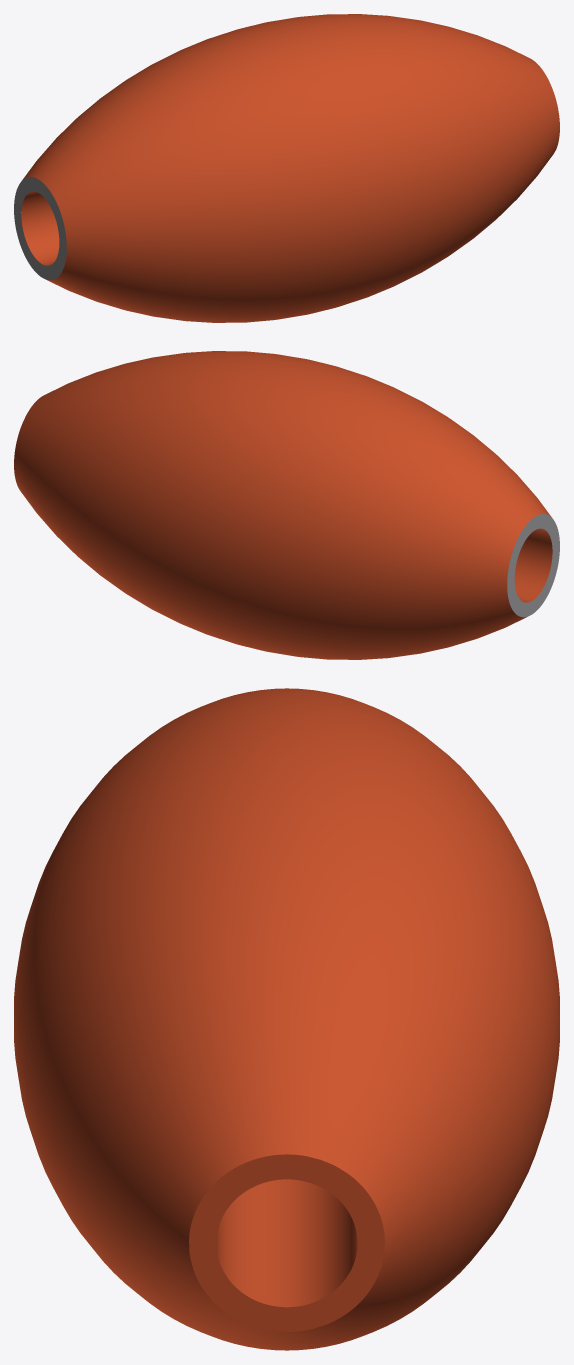
Rendered from Ovaal oranje.glb.
3 renders of one model, top to bottom at view 1: azimuth 30°, elevation 25°; view 2: azimuth 150°, elevation 25°; view 3: azimuth 270°, elevation 25°, orthographic. The views are drawn at different scales.
Bounding box in the file's own units: 0.015 × 0.00774 × 0.00774.
